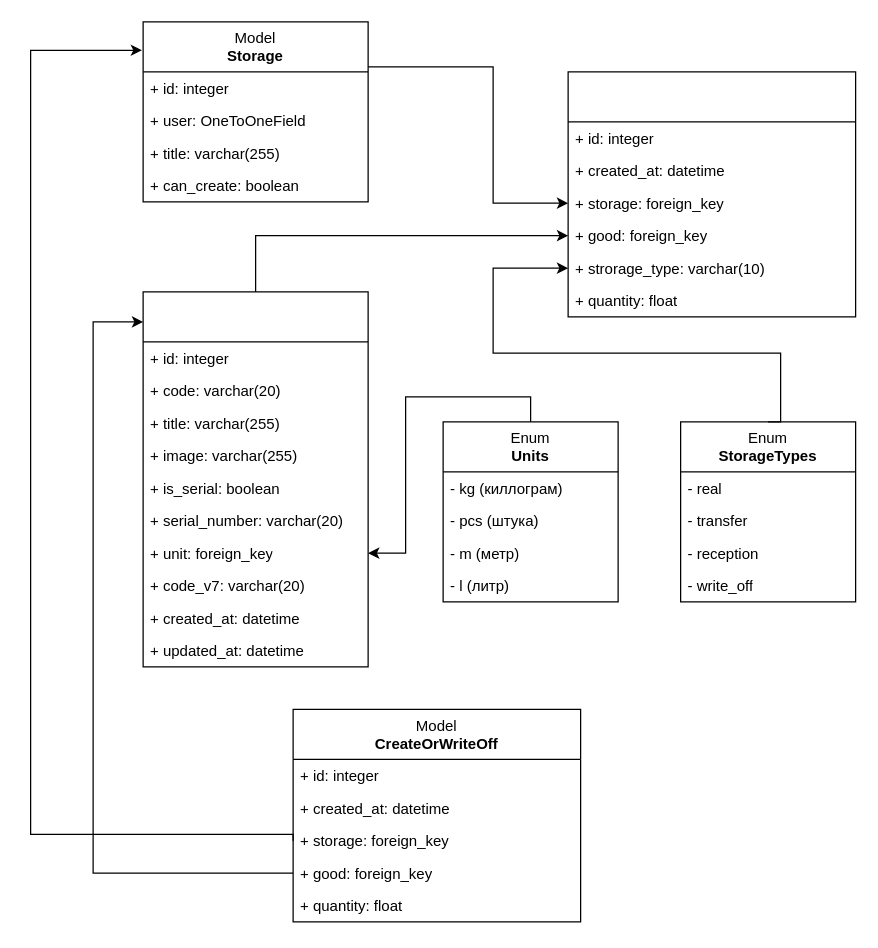
This 878x948 diagram has some shape labels left out. Each missing label, with the box of its shape:
Model Good: (142, 291, 368, 667)
Model ToolBalance: (567, 71, 856, 317)
